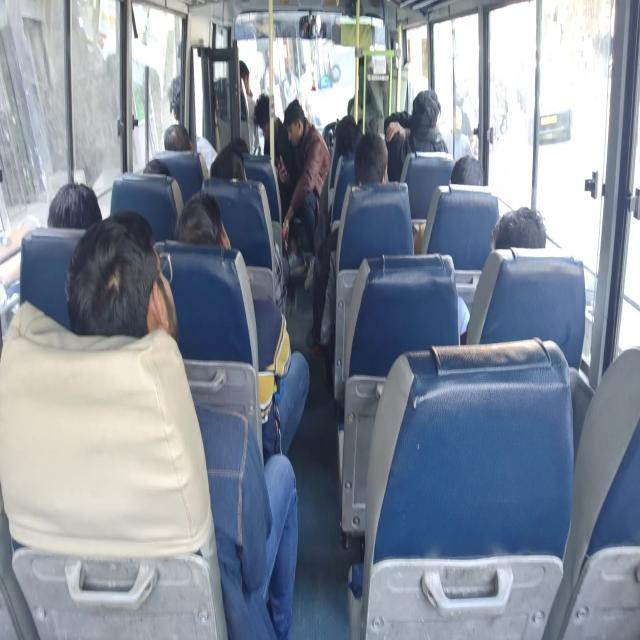person: (100, 246, 152, 325), (500, 213, 565, 270), (179, 193, 231, 259), (44, 178, 94, 230), (209, 154, 249, 188), (412, 99, 442, 143), (448, 156, 486, 189), (159, 122, 190, 160), (136, 149, 168, 185), (289, 105, 315, 147), (334, 114, 358, 158), (352, 56, 382, 89), (259, 97, 277, 138), (232, 68, 252, 103), (359, 149, 378, 184), (222, 136, 252, 151)
